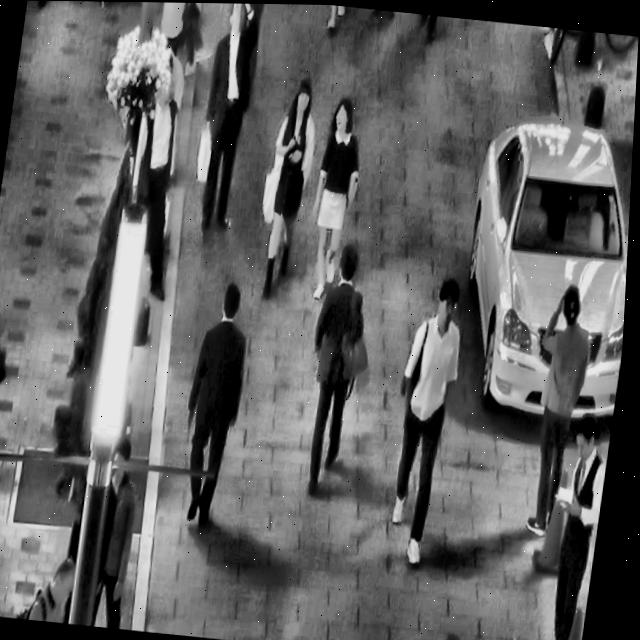light_vehicle: (443, 92, 636, 431)
